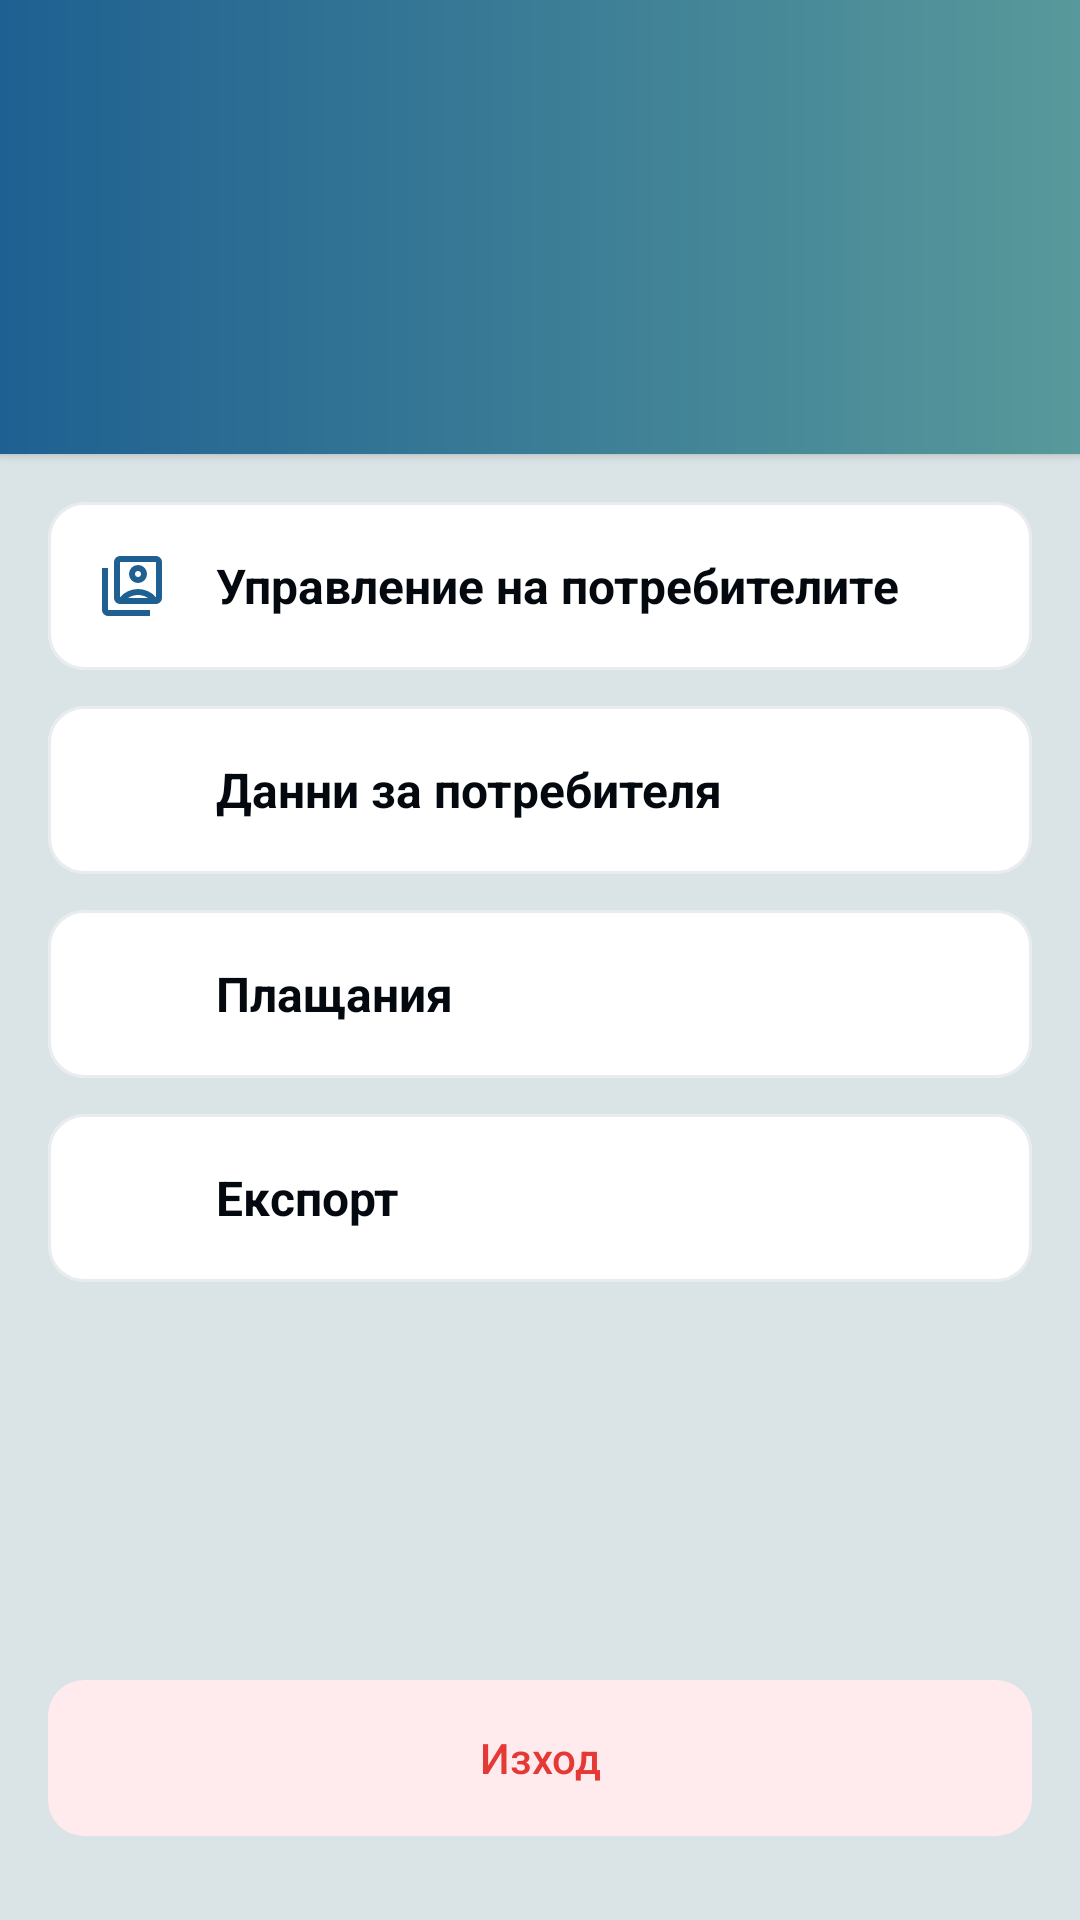

Screen size 1080x1920. Icon name, then its center in pixels as (x=x, y=y):
switch account: (x=132, y=586)
